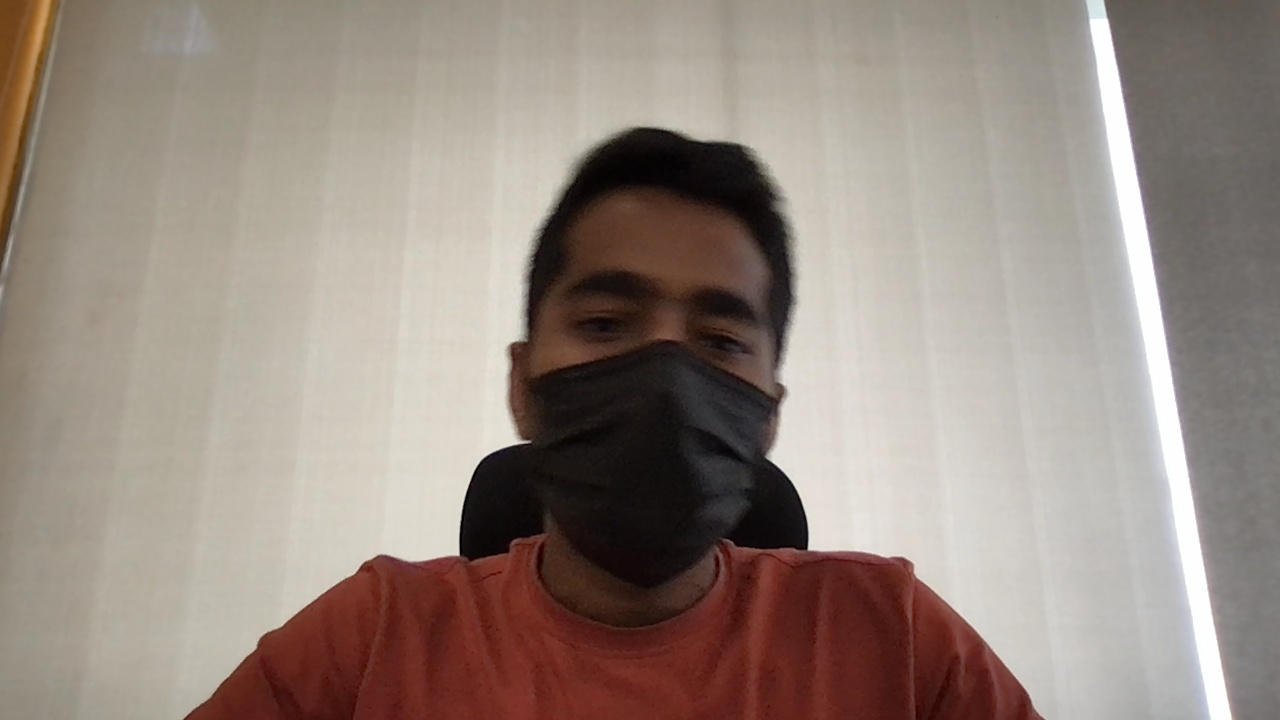mask: (528, 339, 776, 586)
